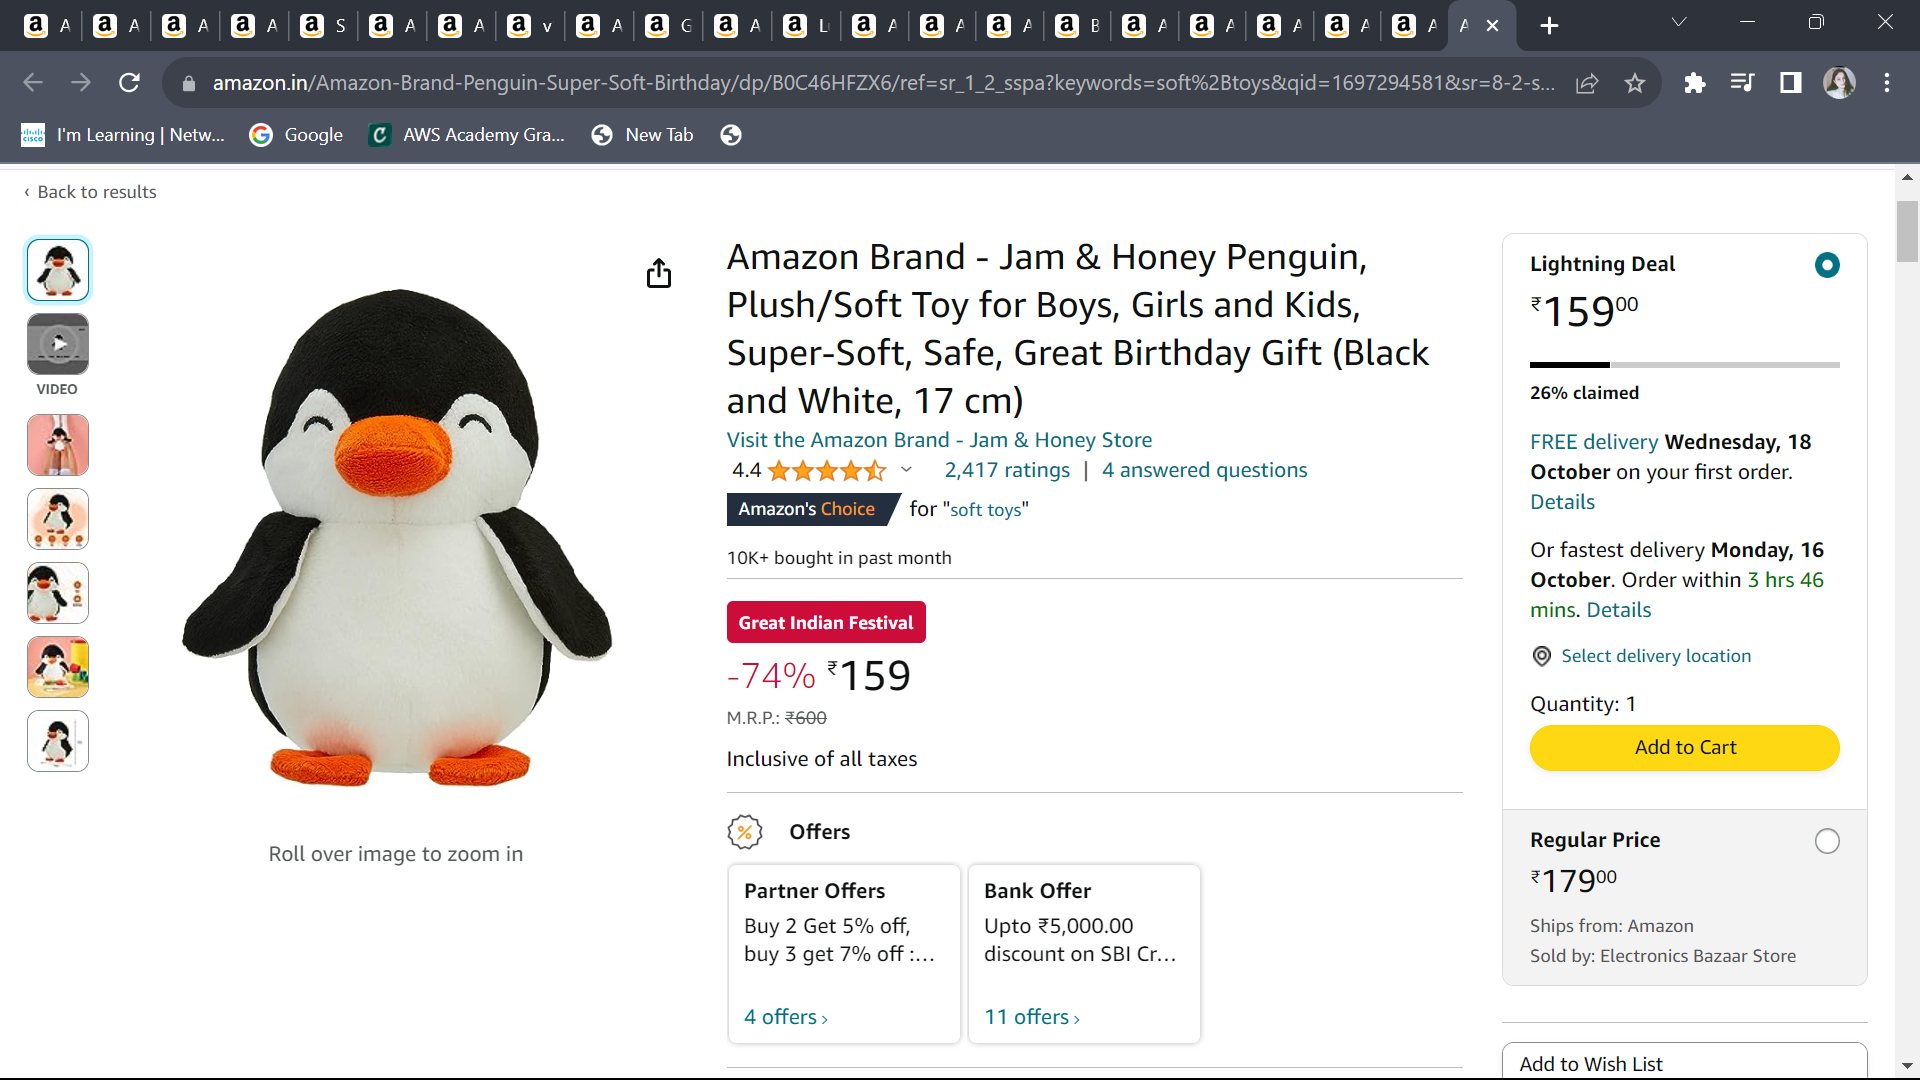Image: (182, 278, 621, 815)
Paragraph: (692, 761, 1251, 1080), (729, 233, 1511, 425), (720, 433, 1433, 538), (1528, 236, 1920, 407), (1487, 812, 1882, 971), (1484, 716, 1894, 806), (1514, 538, 1857, 640), (684, 647, 1009, 753), (1520, 430, 1857, 529), (678, 529, 992, 591), (251, 836, 531, 899), (1499, 633, 1816, 680), (1516, 687, 1679, 735), (1528, 233, 1540, 253)
